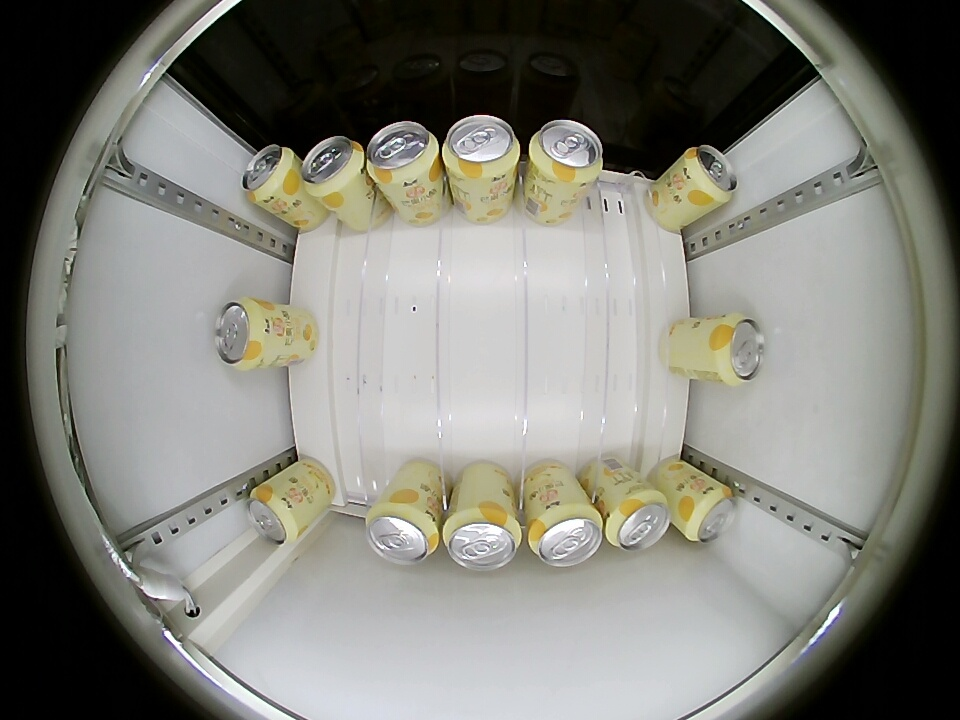mangguoxiaolao: (443, 115, 521, 183), (443, 505, 523, 571), (527, 501, 604, 567), (528, 119, 603, 186), (365, 121, 441, 187), (365, 500, 440, 564), (605, 487, 672, 551), (301, 136, 366, 199), (709, 313, 765, 386), (214, 298, 269, 371), (241, 144, 298, 206), (246, 483, 303, 545), (682, 144, 739, 206), (681, 483, 738, 544)
